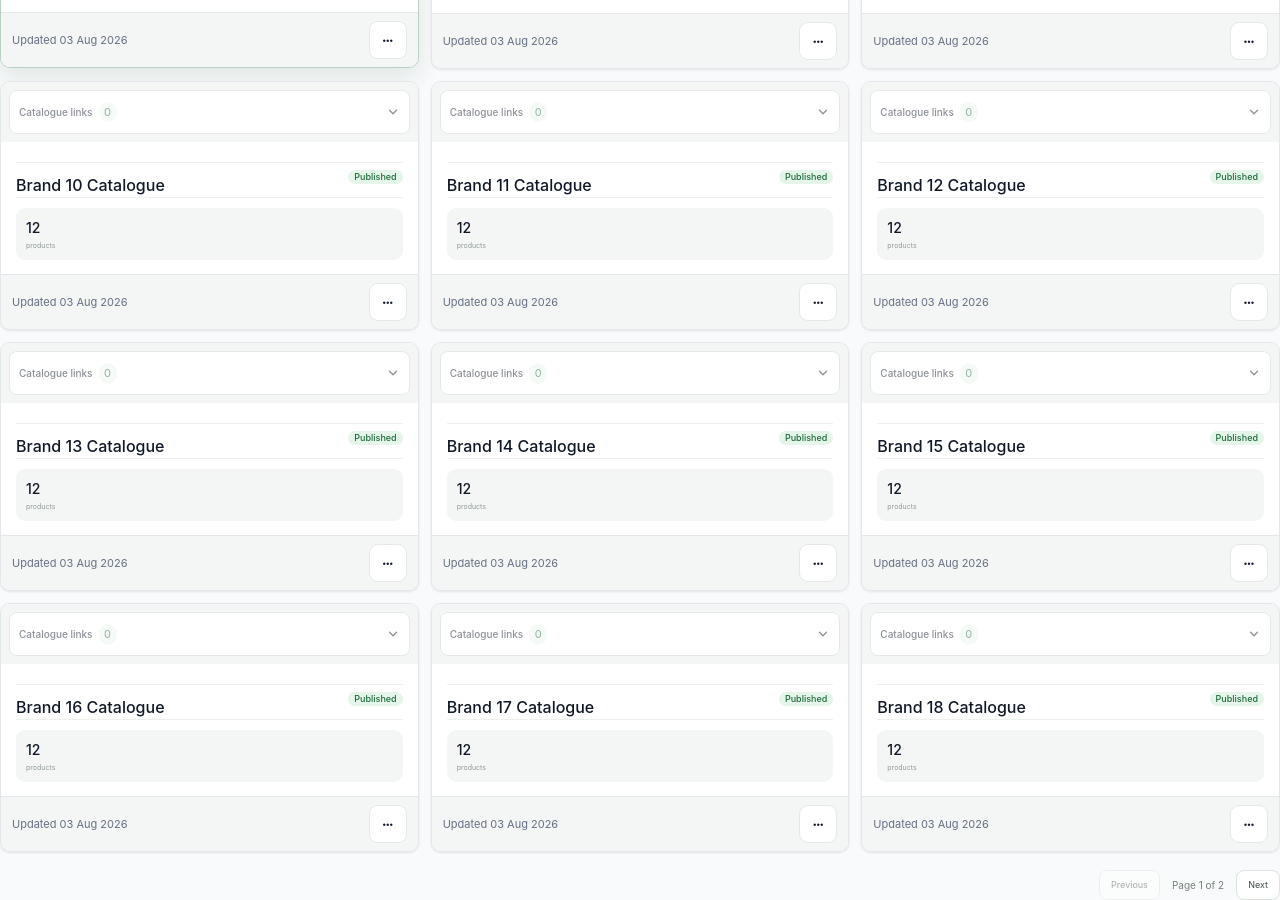
Scenario: CatalogueManagement preview action › loads price links for catalogue cards on every pagination page
(page scrolled)
Click the button "Next".
click(1258, 885)  # box [1236, 870, 1279, 899]
(page scrolled)
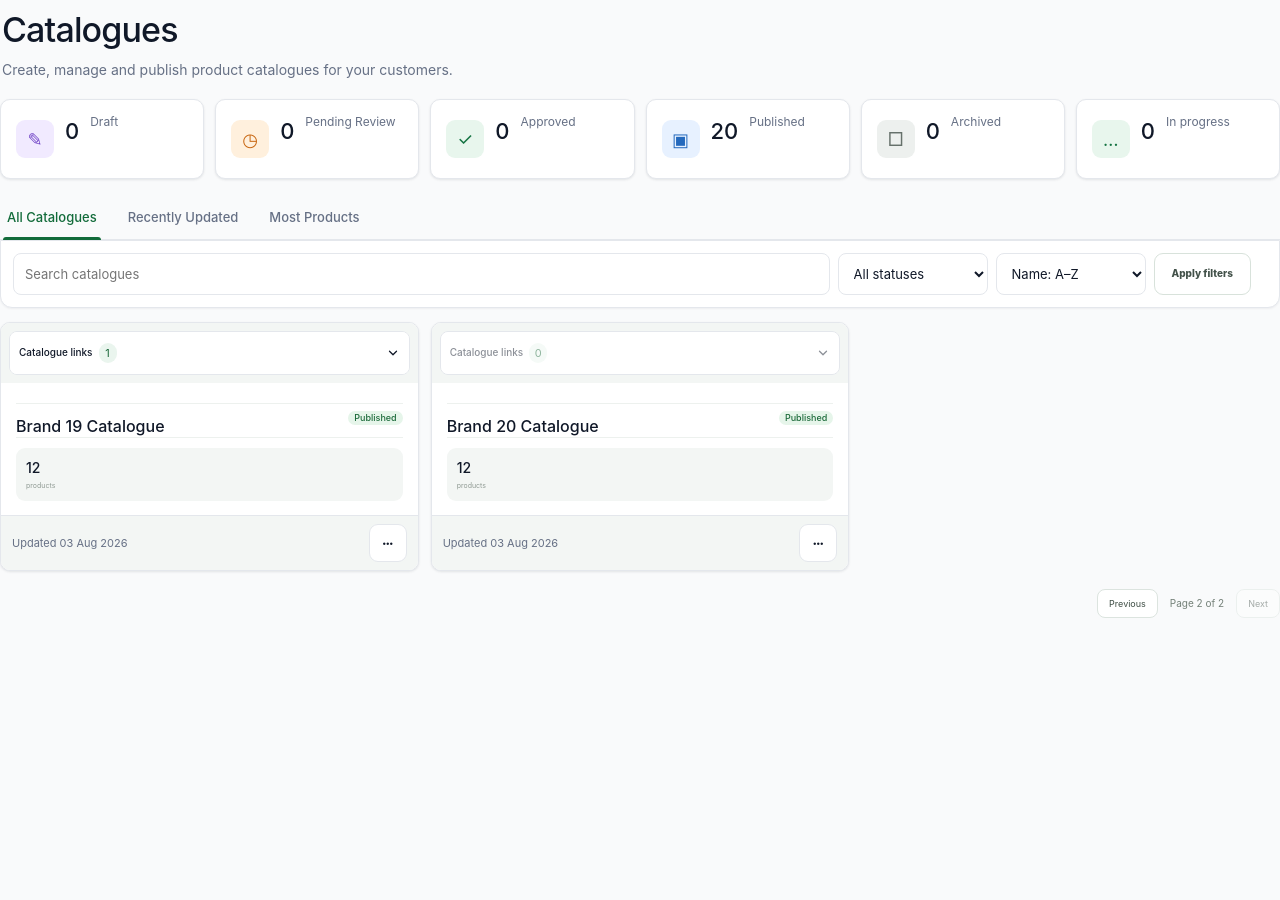
Expected: the heading "Brand 19 Catalogue" is shown, [16, 416, 164, 438]
Click the button with aria-label "Catalogue links for Brand 19 Catalogue".
click(56, 352)  # box [10, 332, 409, 374]
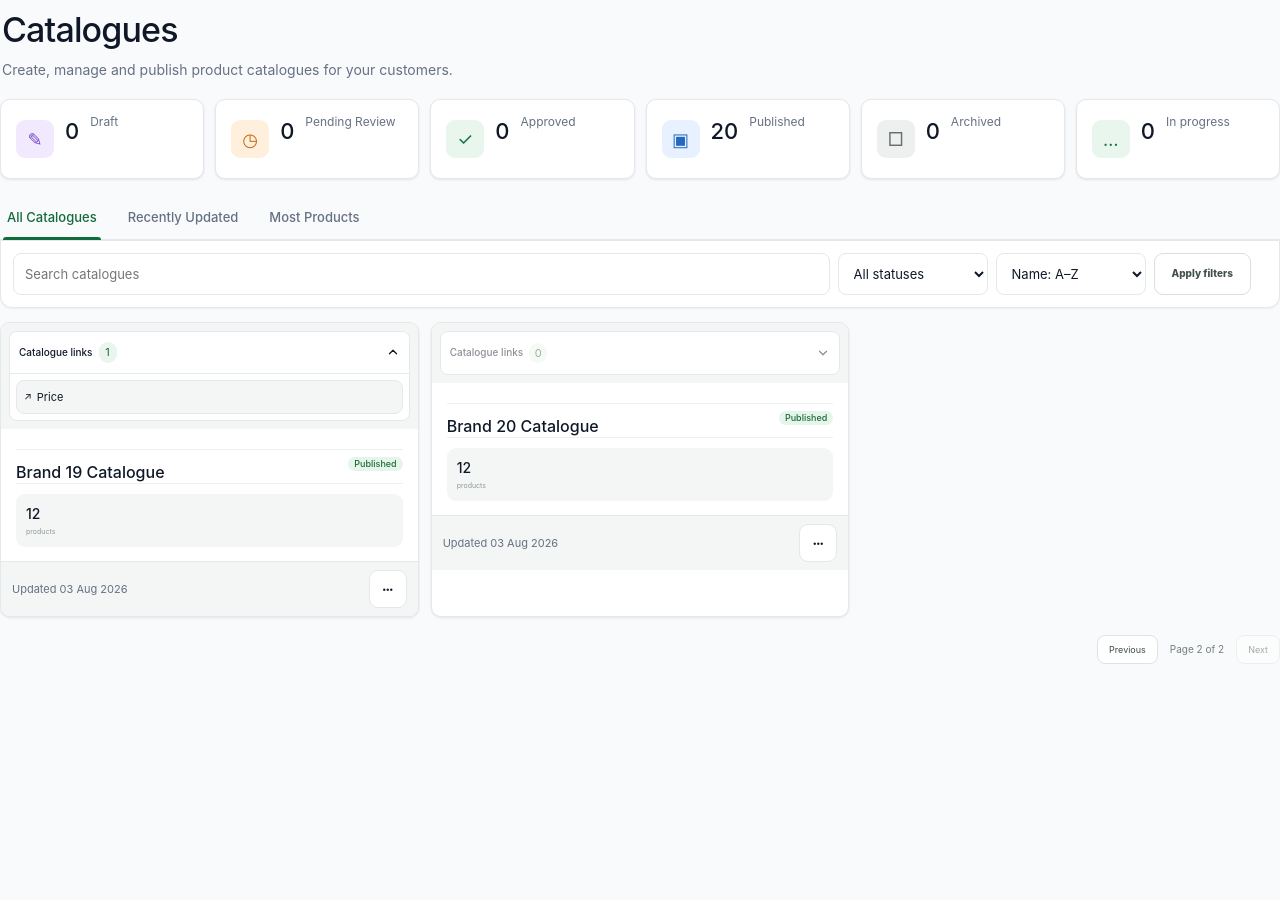
Expected: the button titled "Open Price catalogue" is shown, [16, 380, 403, 414]
